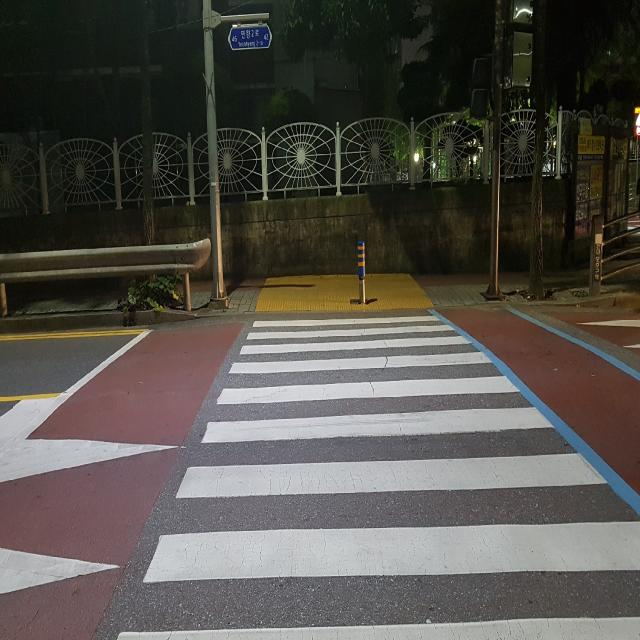횡단보도: (117, 316, 640, 640)
